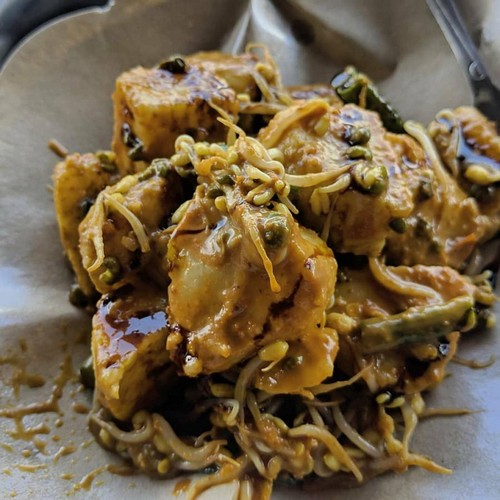tipat cantok: (55, 36, 481, 472)
